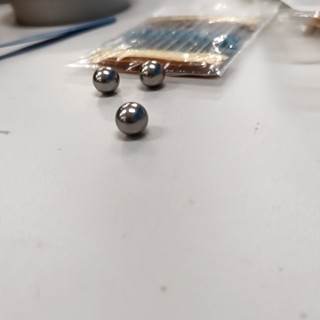ironball: (98, 98, 170, 146), (82, 53, 122, 101), (131, 48, 167, 95)
